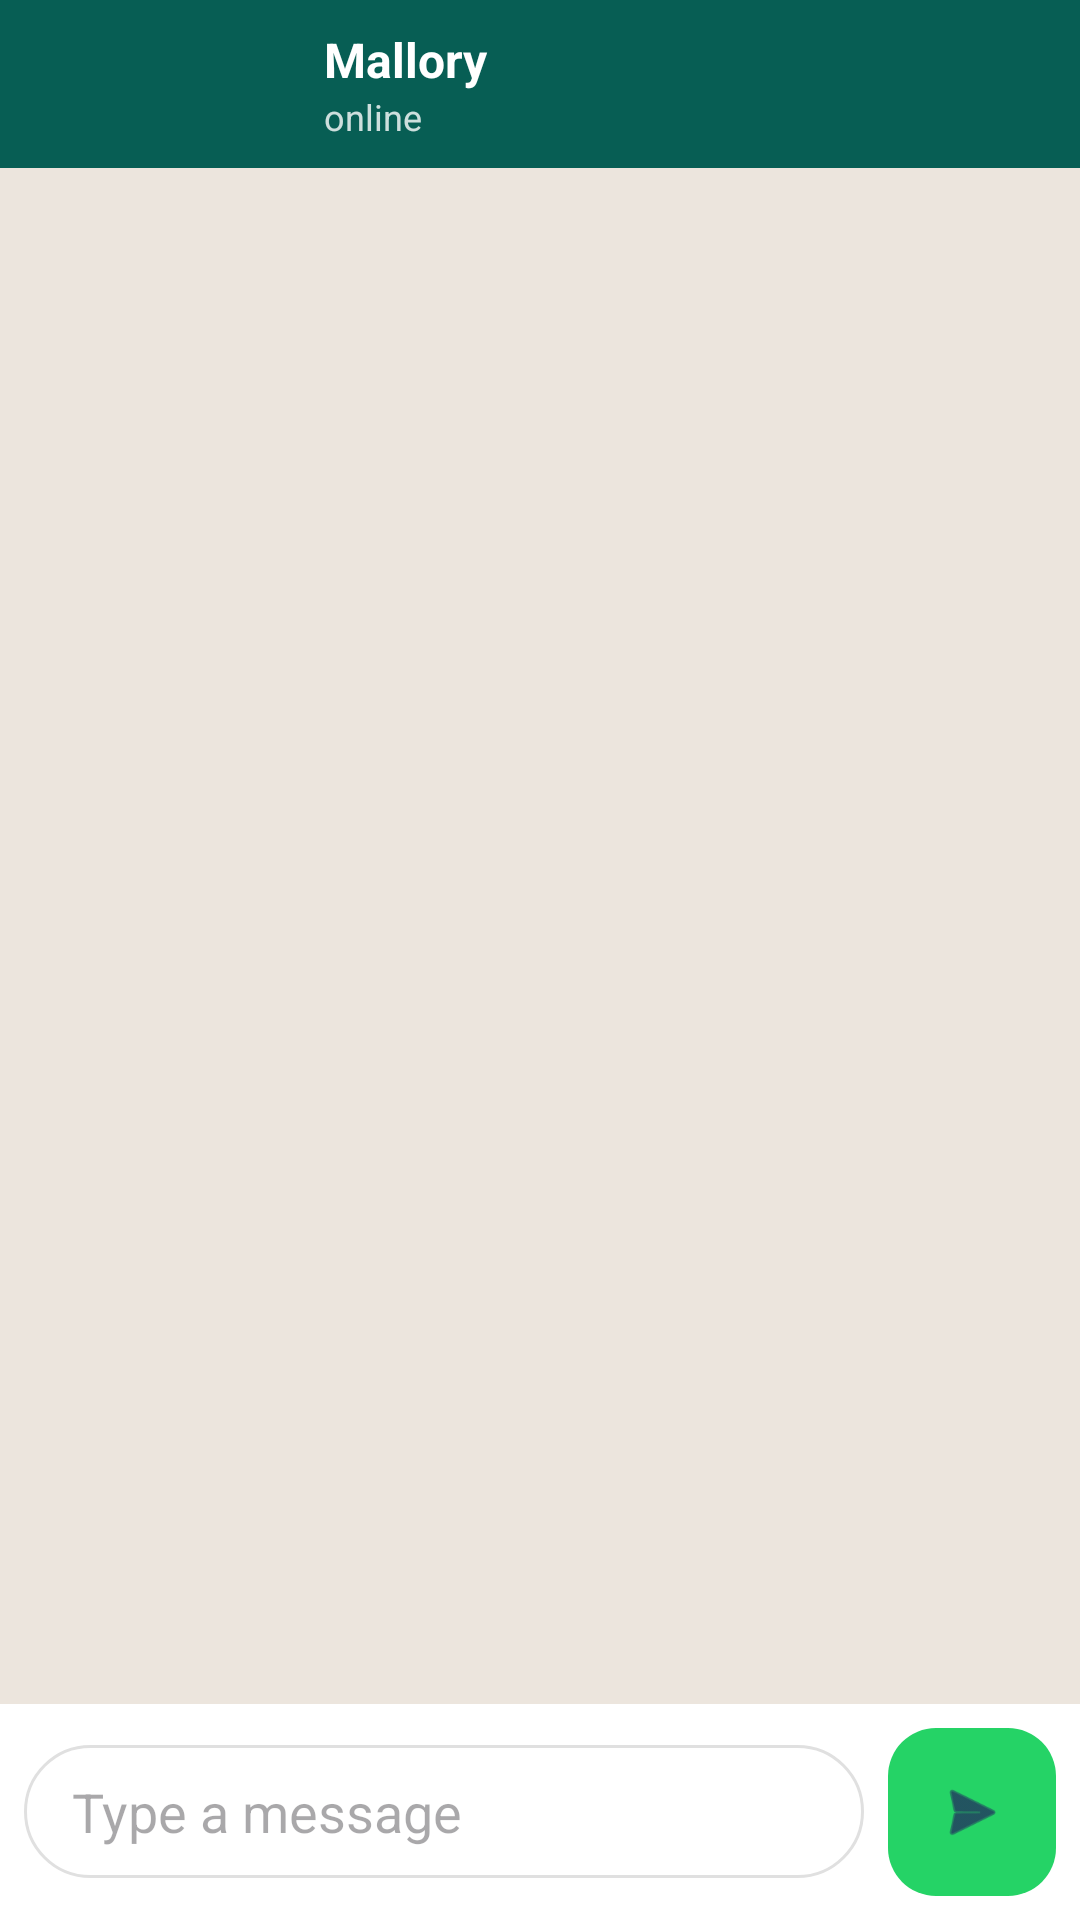

Icon bounding boxes for this 1080x1920 phone screenshot, format bbox(x1, y1, x2, y2):
send: bbox(888, 1728, 1056, 1896)
